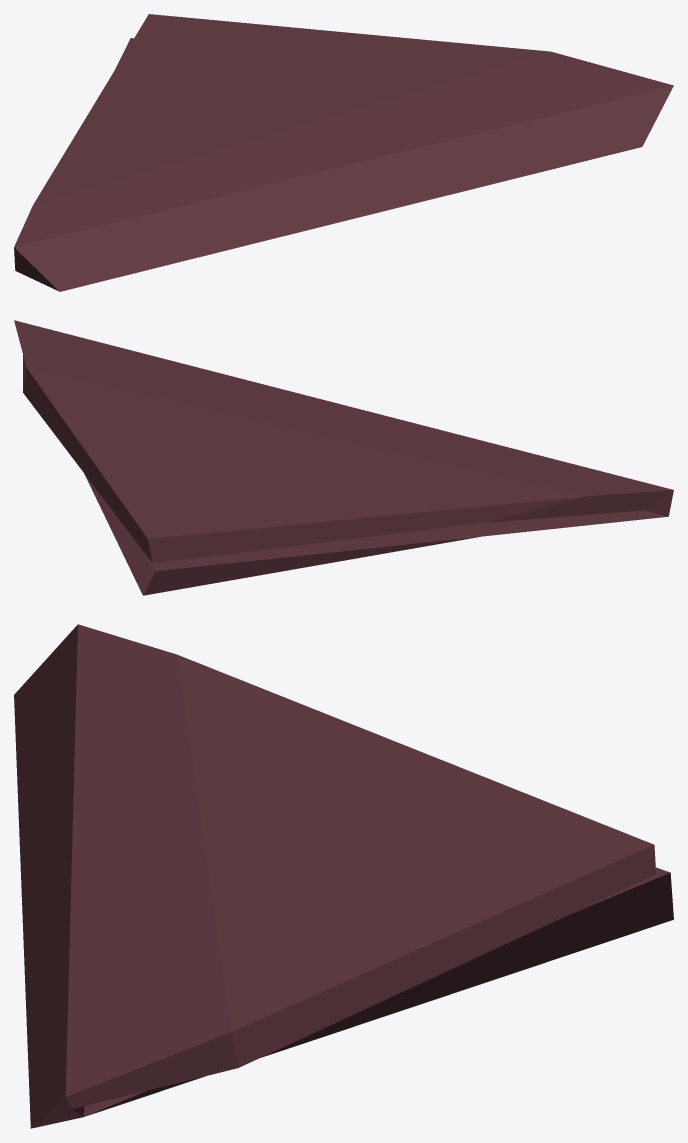
File: furniture-napkin-triangle.glb
3 views of the same model, one above another, from view 1: azimuth 30°, elevation 25°; view 2: azimuth 150°, elevation 25°; view 3: azimuth 270°, elevation 25° (orthographic). The views are drawn at different scales.
Visible parts, largest first — view 1: napkin-triangle; view 2: napkin-triangle; view 3: napkin-triangle.
Boxes of the visible parts, left/top/right/bottom form: napkin-triangle: left=14, top=14, right=673, bottom=291; napkin-triangle: left=14, top=320, right=673, bottom=595; napkin-triangle: left=14, top=624, right=673, bottom=1128.
Size of the model in its own units: 0.3002 by 0.0232 by 0.1746.
